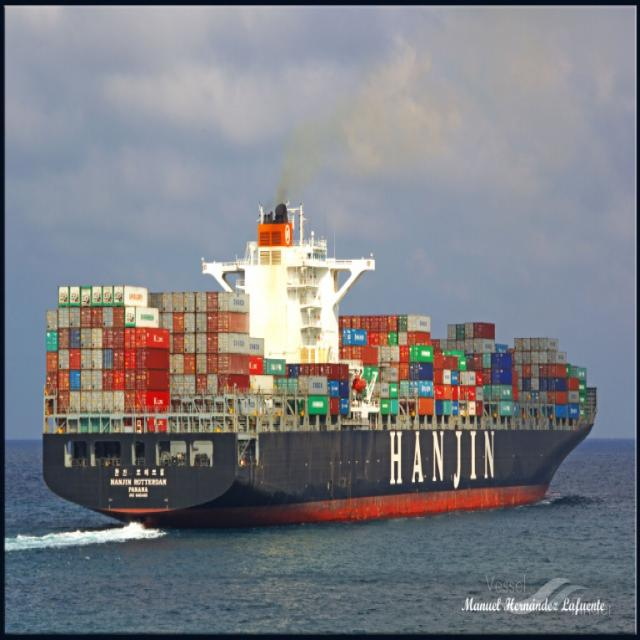Container Ship: (42, 206, 596, 530)
